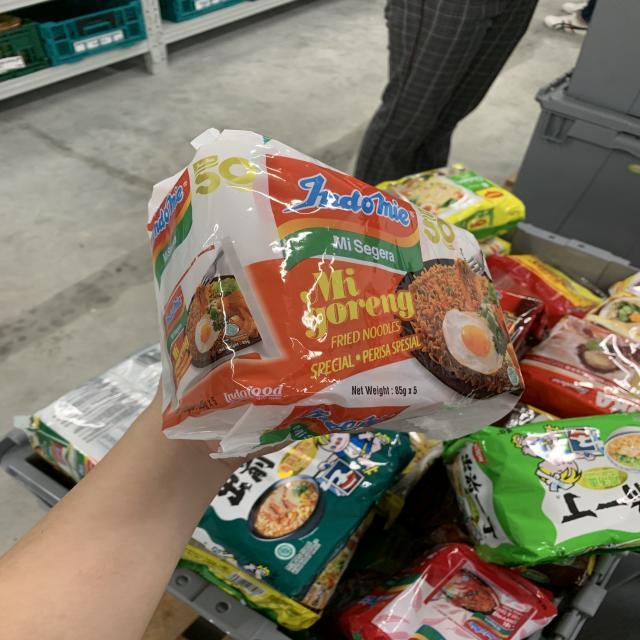object_name: (160, 158, 524, 412)
